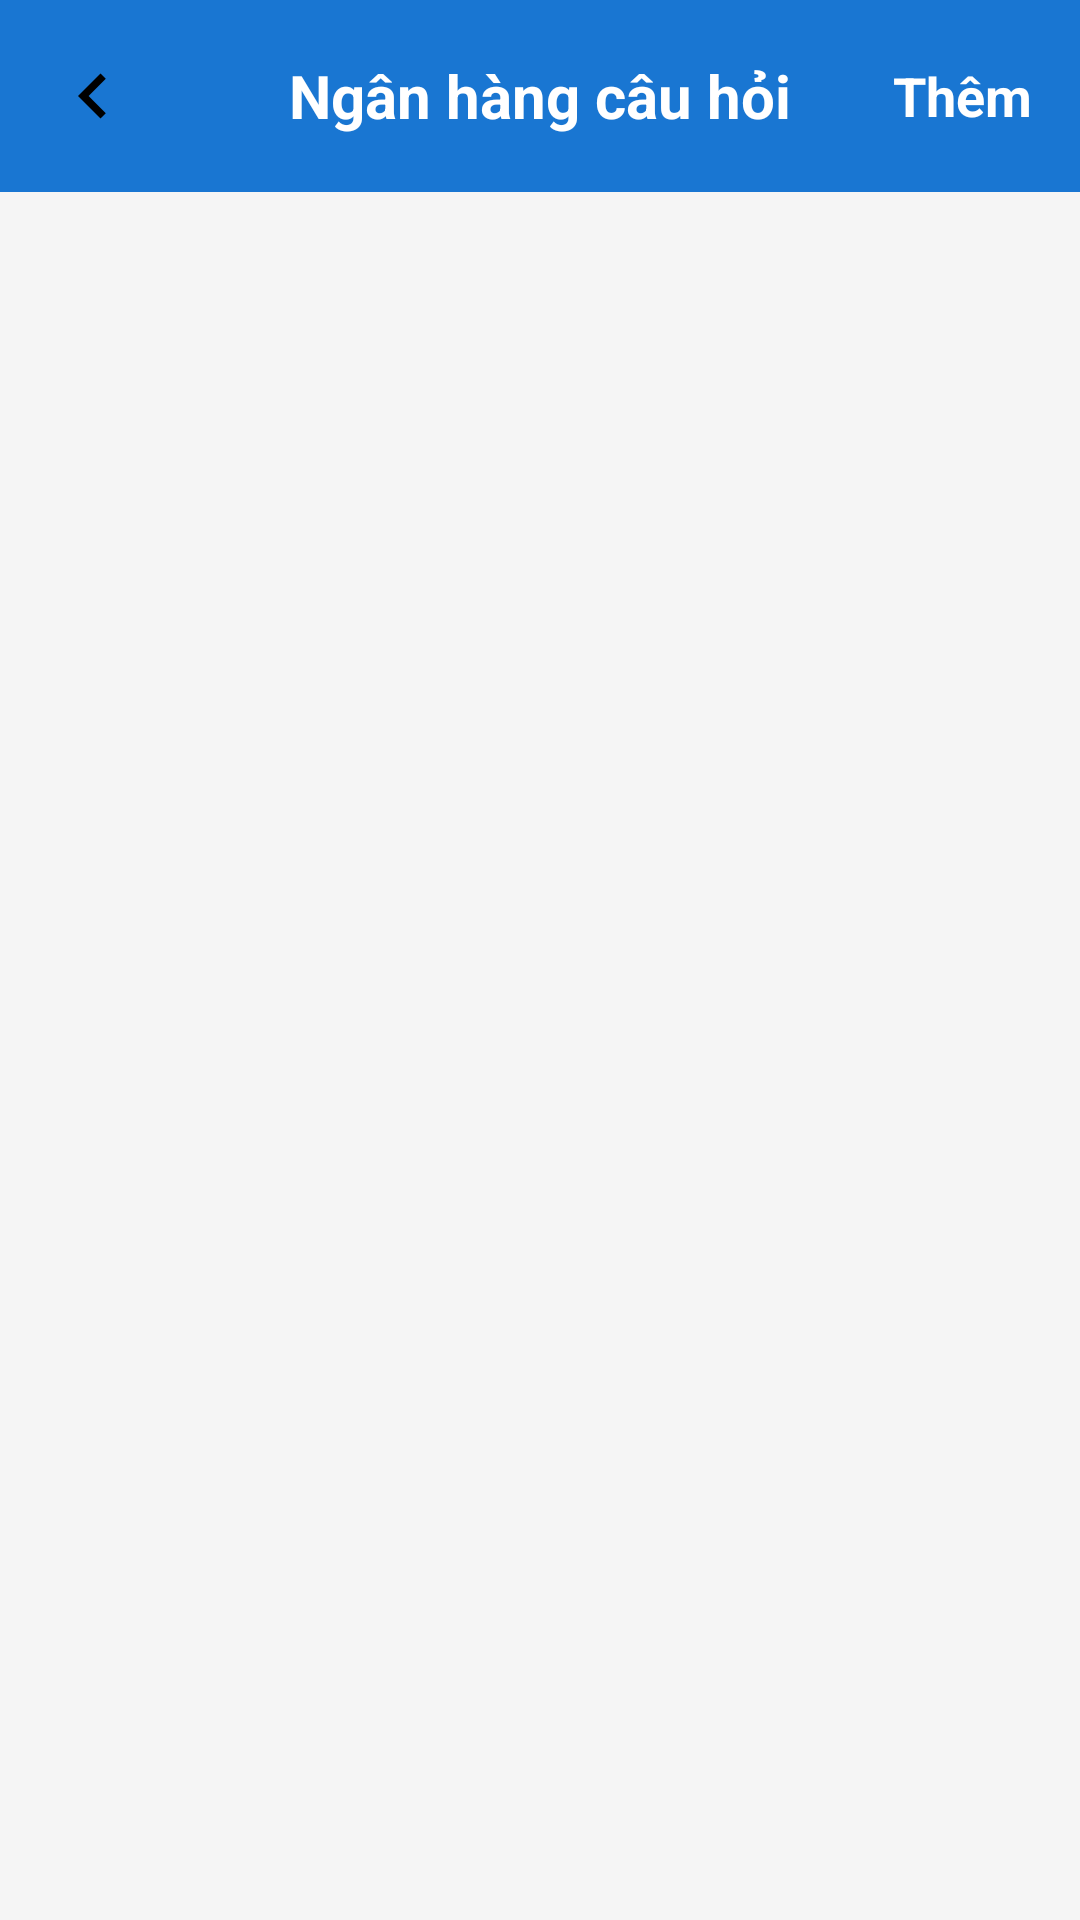

Where icons sit on this 1080×1920 app screen, as (x1, y1, x2, y2):
back arrow: (78, 73, 106, 119)
